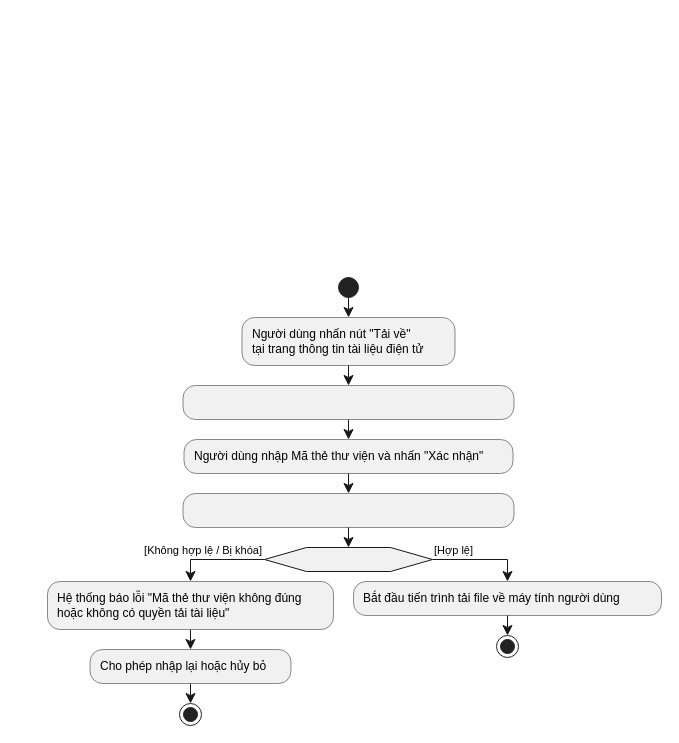
Some shapes in this 679 by 743 pixel diagram are drawn without their labels. The centre of each missing label's shape, as x and y in pixels:
"Hệ thống hiển thị form yêu cầu nhập Mã thẻ thư viện" belongs at pixel 348 402.
"Hệ thống kiểm tra tính hợp lệ của Mã thẻ trong CSDL" belongs at pixel 348 510.
"Mã thẻ hợp lệ và có quyền?" belongs at pixel 348 559.
